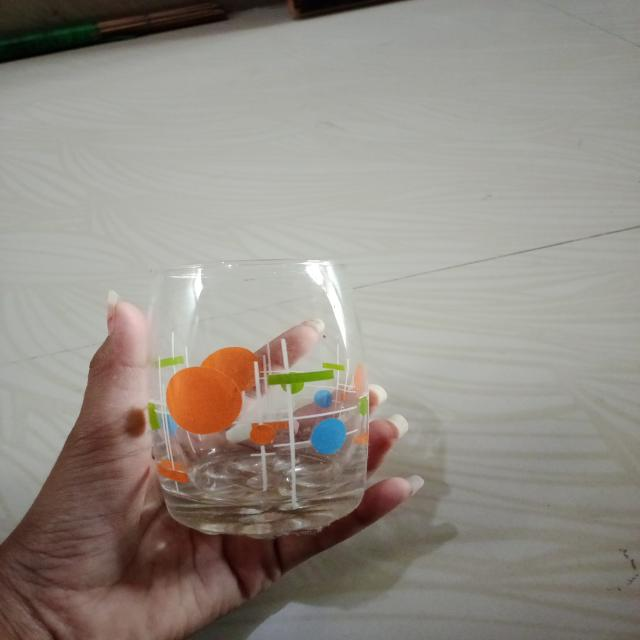Glass: (135, 253, 376, 542)
